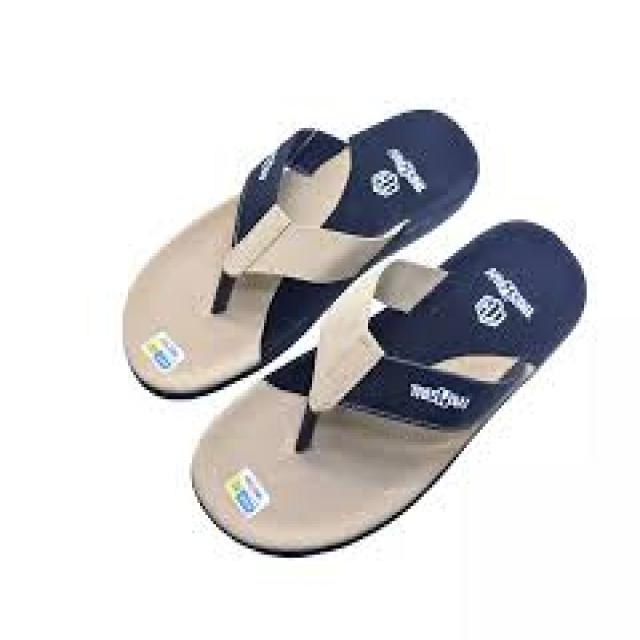Sandals: (65, 61, 630, 611)
